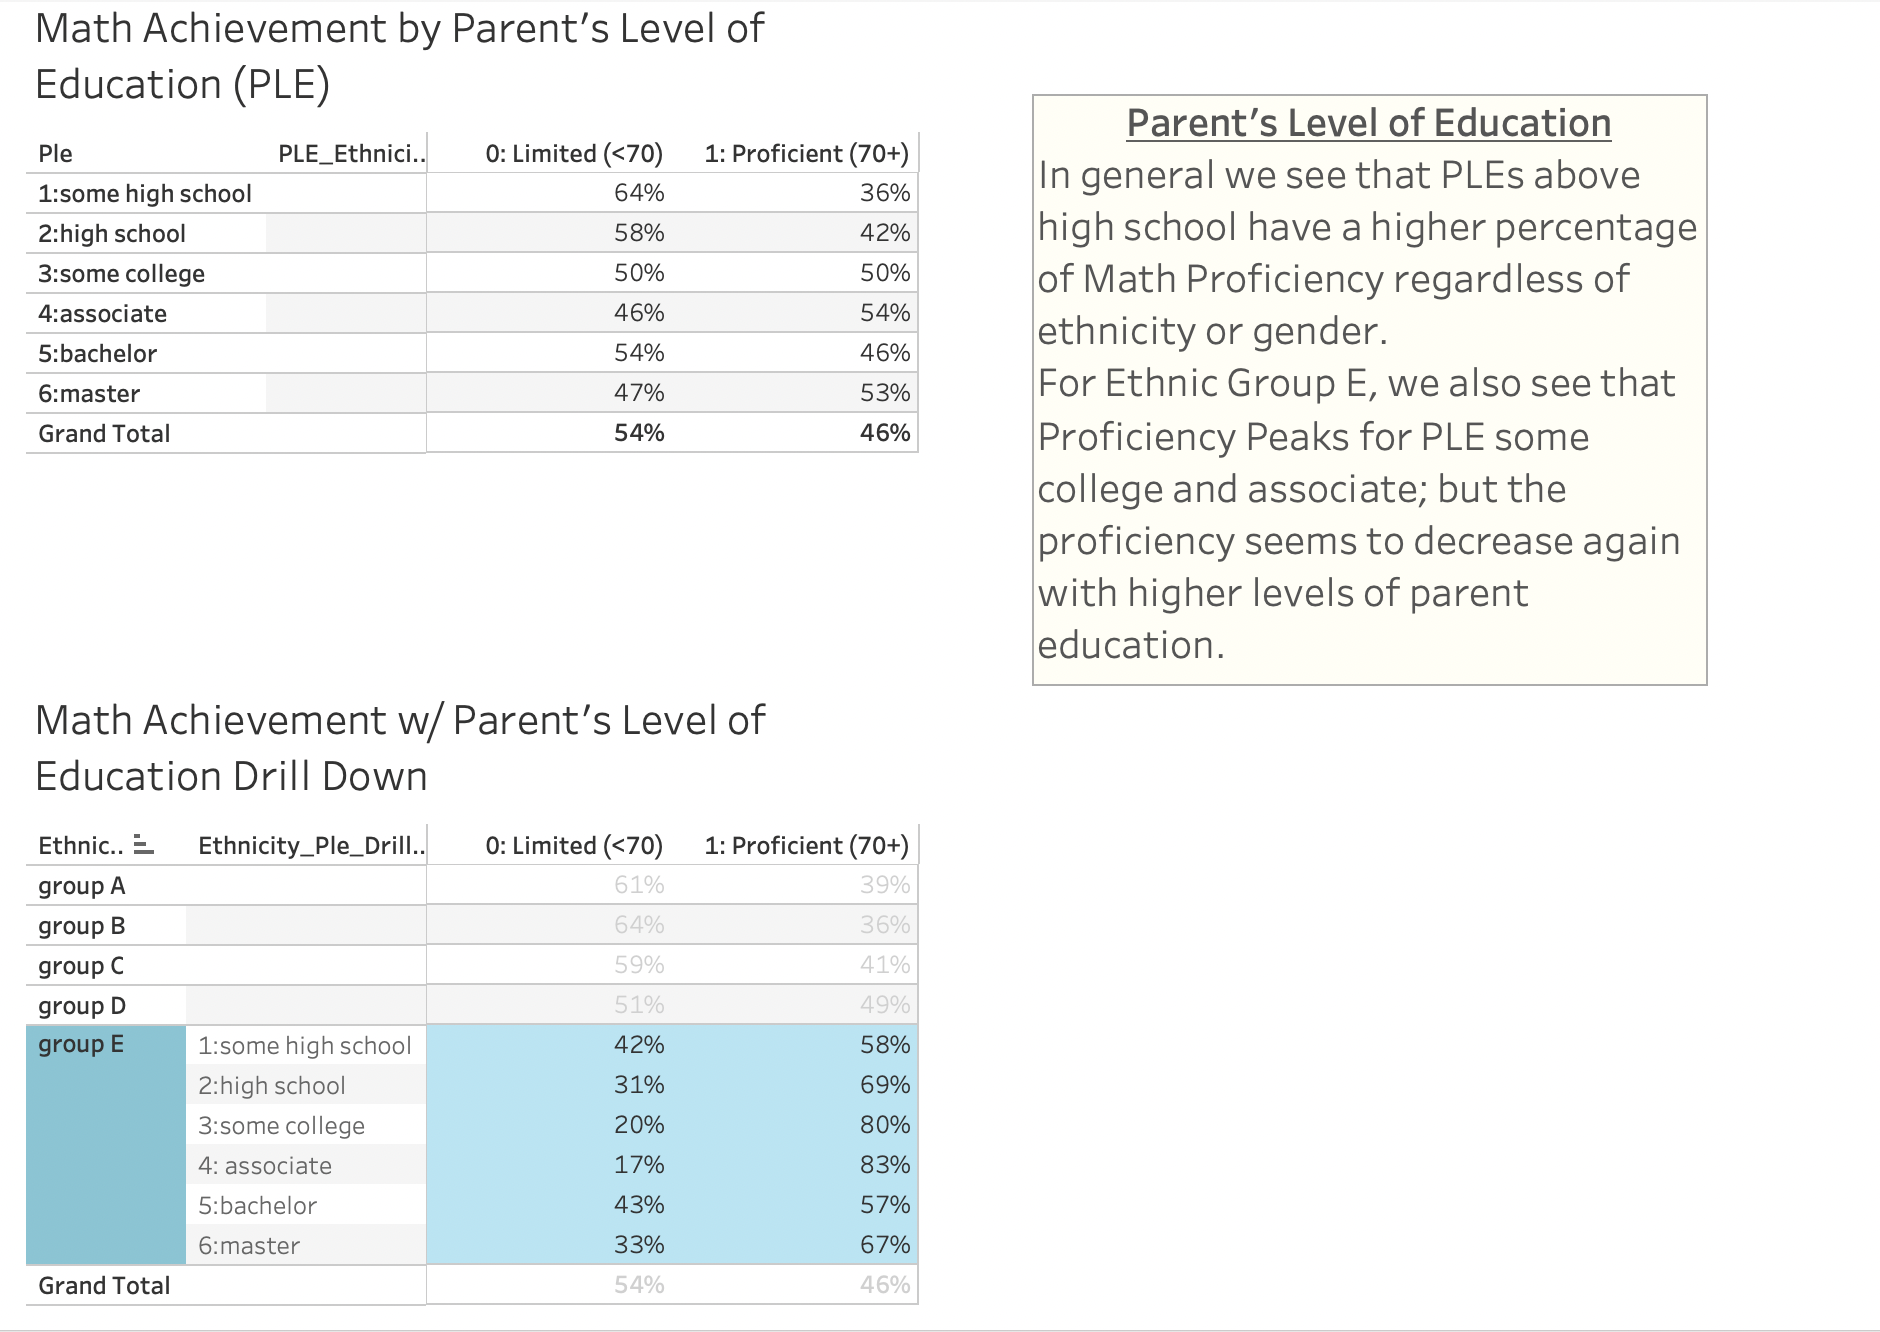

The dashboard page shown, as its layout file describes it:
{"tool":"tableau","page":{"name":"PLE_Dashboard","canvas":[650,860],"ordinal":4},"visuals":[{"type":"worksheet","title":"PLE_Ethnicity_DrillDown","mark":"Automatic","rows":["ple","Calculation_6932095377514397701"],"cols":["Calculation_6932095376355844096 1"],"box":[8,10.4,634,392.4]},{"type":"worksheet","title":"Ethnicity_PLE_DrillDown","mark":"Automatic","rows":["ethnicity","Ethnicity_TestPrep_DrillDown (copy)_6932095376439709699"],"cols":["Calculation_6932095376355844096 1"],"box":[8,402.8,634,446.9]}]}

Visuals, with their boxes on the page's 650x860 design canvas (x1, y1, x2, y2). These are canvas units, not pixel positions in the 1880x1332 screenshot, which may show the page scaled, cropped or inside an application window:
"PLE_Ethnicity_DrillDown" worksheet: bbox(8, 10, 642, 403)
"Ethnicity_PLE_DrillDown" worksheet: bbox(8, 403, 642, 850)
